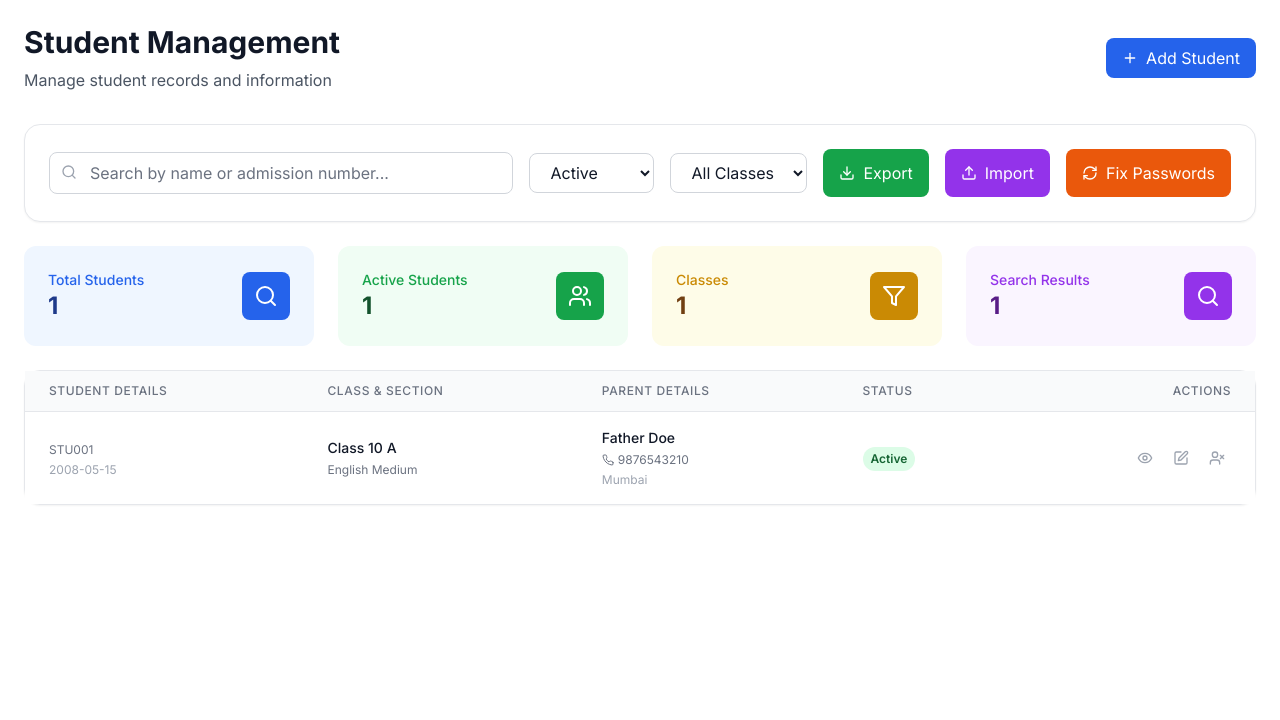
Test: StudentManagement Component › Student Form Buttons › should render Save button
The width and height of the screenshot is (1280, 720).
What coordinates should you click on to do the following:
click the button "Add Student"
I would click on:
 (1181, 58)
Its box is 1106,38 -> 1256,78.
(page scrolled)
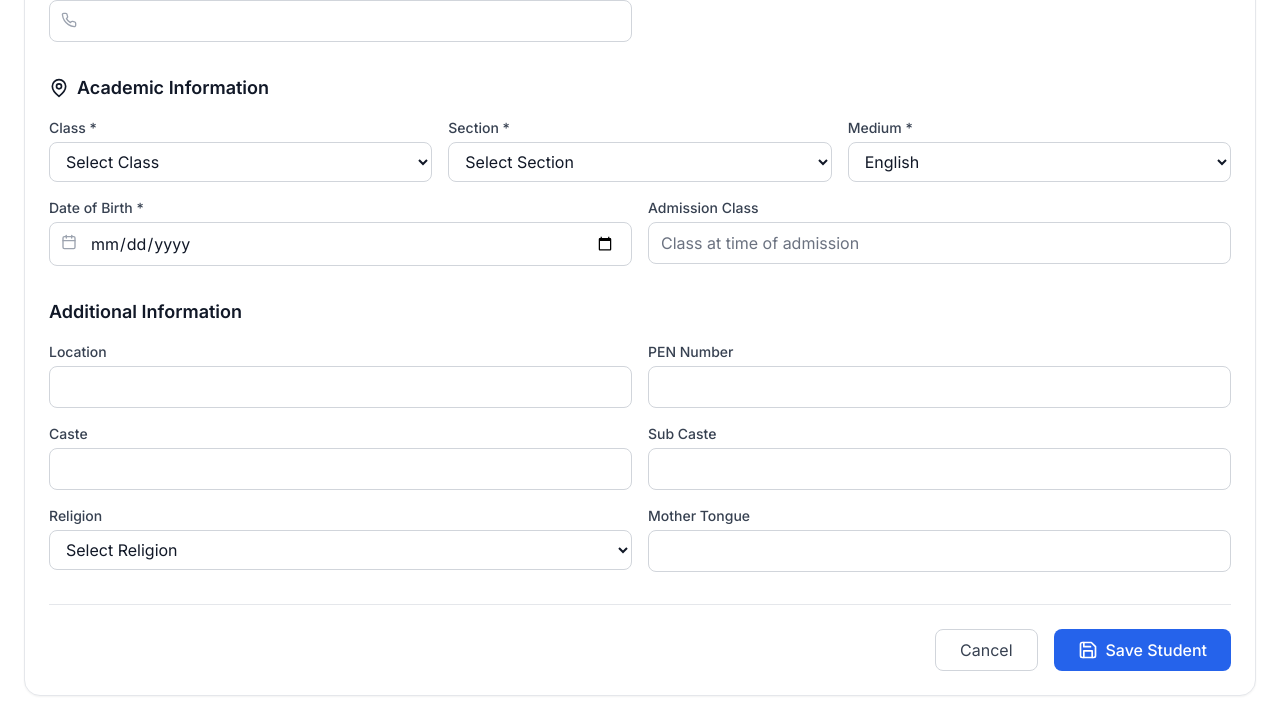
Expected: the text "Save Student" is shown, 1106,638 -> 1207,662
